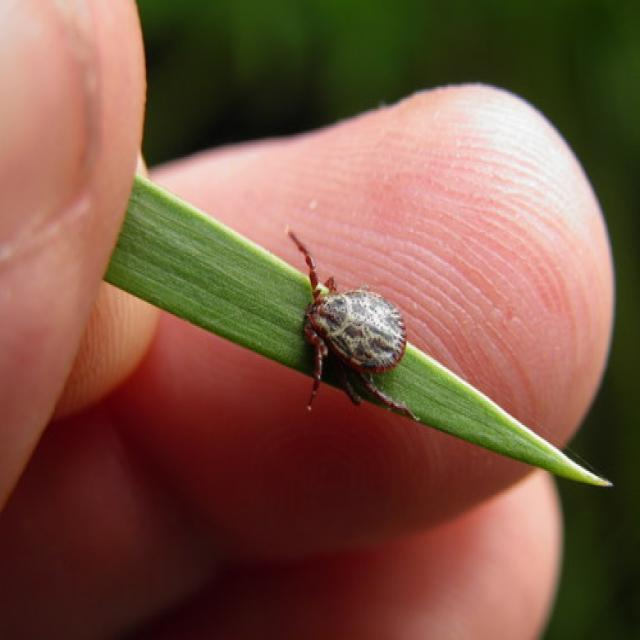Dermacentor Reticulatus-M: (285, 229, 413, 420)
